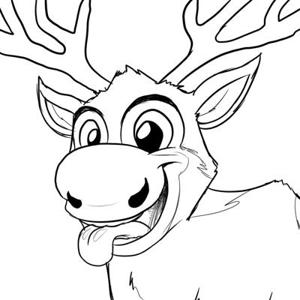sven: (8, 5, 277, 295)
